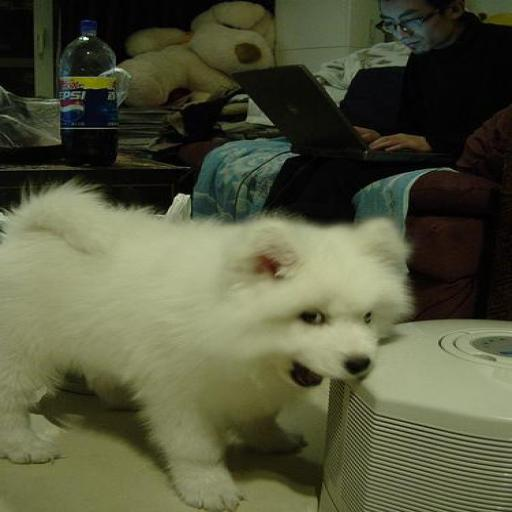dog_face: (223, 214, 419, 393)
